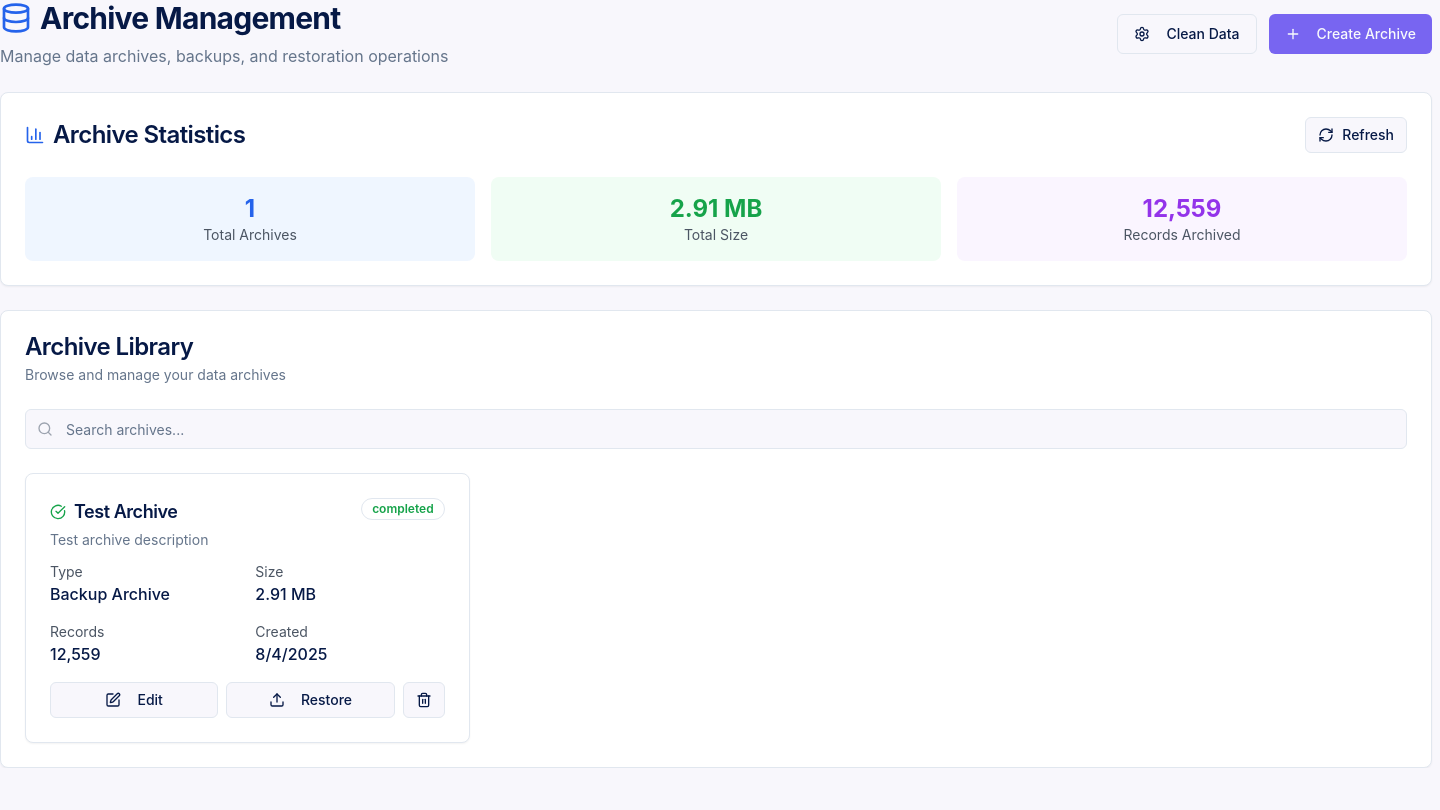
Scenario: Archive Management Components › Create Archive Dialog › should open create archive dialog
Click the button "Create Archive" at (1350, 34), box [1269,14,1432,54]
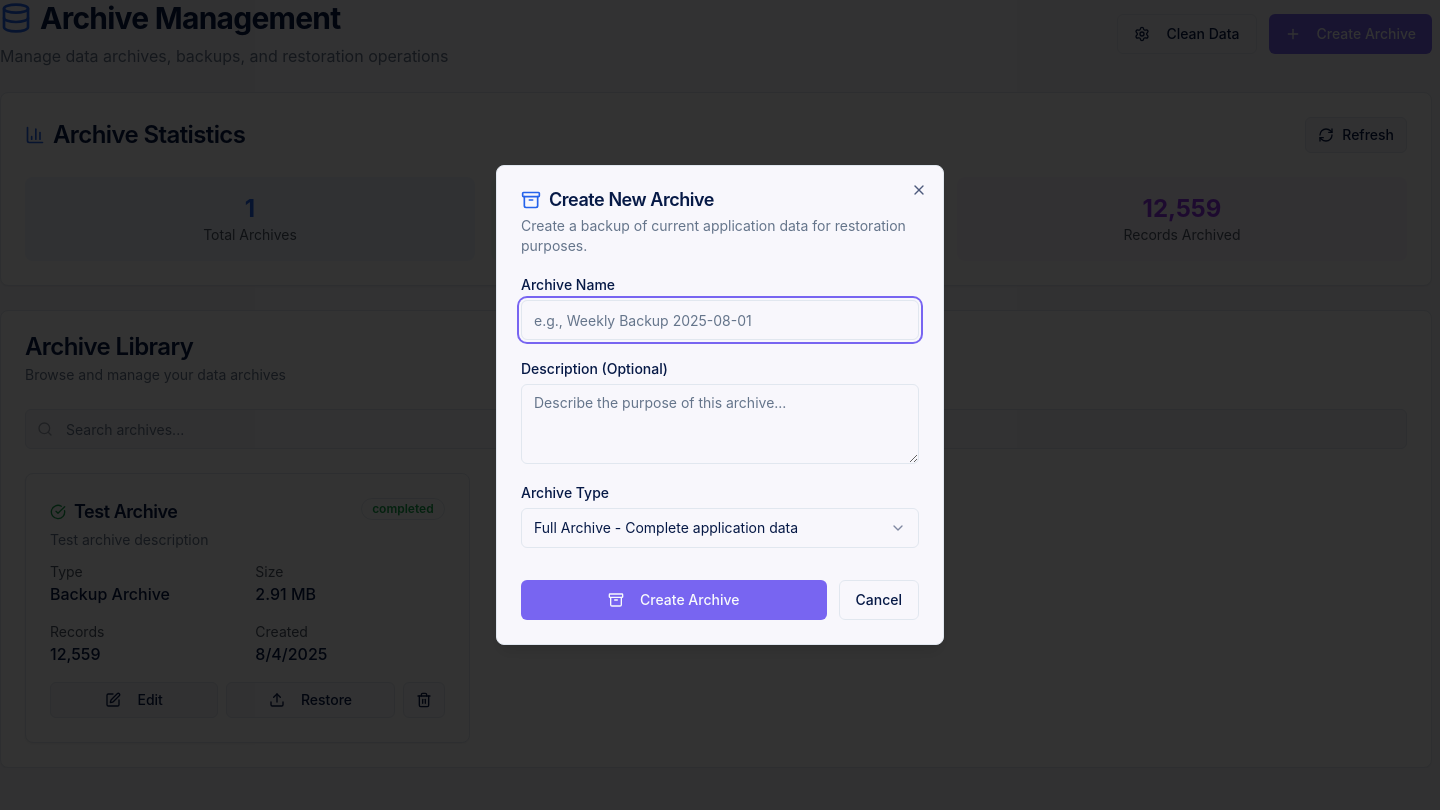
Expected: the heading "Create New Archive" is shown, [521,189,714,210]
Expected: the text "Create a backup of current application data for restoration purposes." is shown, [521,216,919,256]
